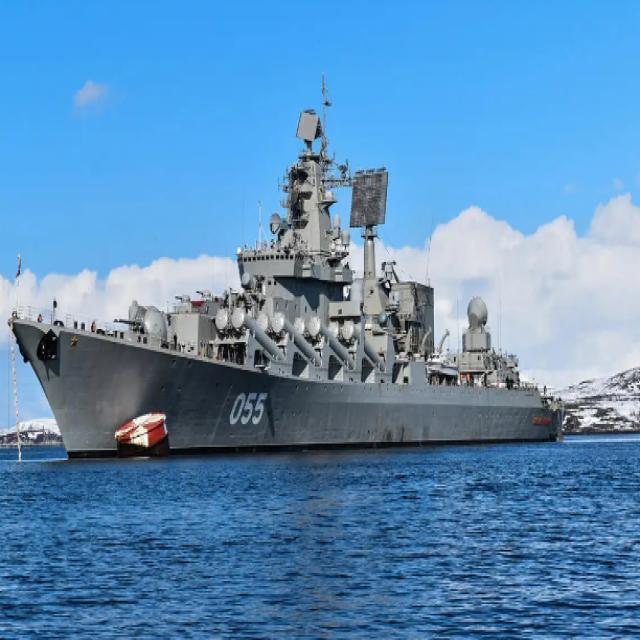navalvessels: (9, 73, 570, 459)
